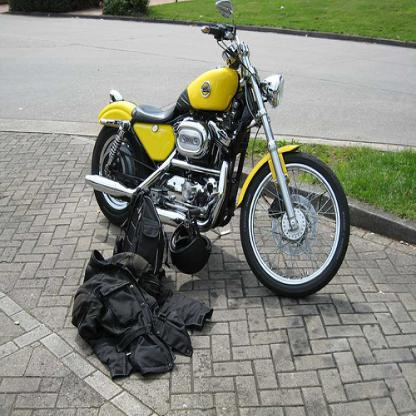motorbike: (82, 0, 352, 300)
